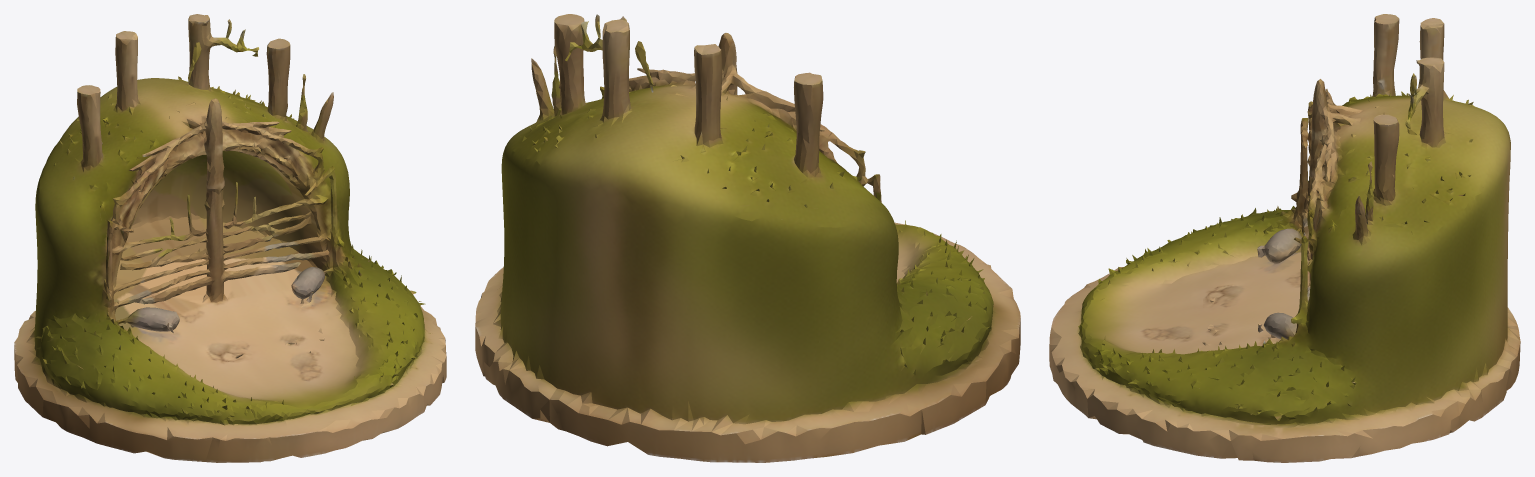
3 views of the same model, side by side, from view 1: azimuth 30°, elevation 25°; view 2: azimuth 150°, elevation 25°; view 3: azimuth 270°, elevation 25° (orthographic). The views are drawn at different scales.
Parts seen in each view (by area): view 1: 033; view 2: 033; view 3: 033.
Boxes of the visible parts, box(x1,y1,x2,y2) form: 033: box(14, 14, 446, 462); 033: box(475, 14, 1020, 462); 033: box(1049, 14, 1520, 462).
Size of the model in its own units: 1.9 by 1.44 by 1.89.
Materials: 1 (1 with a texture image).
